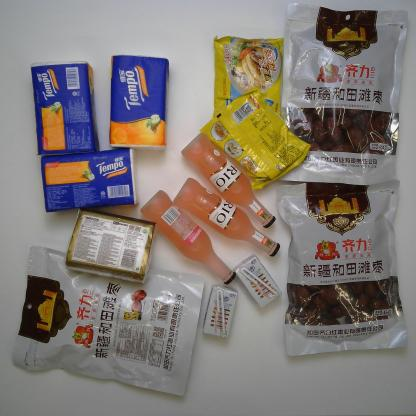Alcohol: (180, 134, 277, 227), (142, 191, 236, 284), (173, 178, 280, 256)
Dried Food: (12, 244, 208, 396), (276, 178, 407, 359), (282, 2, 409, 186)
Instant Noodles: (200, 87, 312, 192), (212, 35, 283, 121)
Milk: (233, 255, 283, 309), (202, 285, 239, 337)
Tissue: (28, 59, 100, 157), (66, 207, 156, 282), (38, 147, 138, 212), (108, 54, 173, 149)
